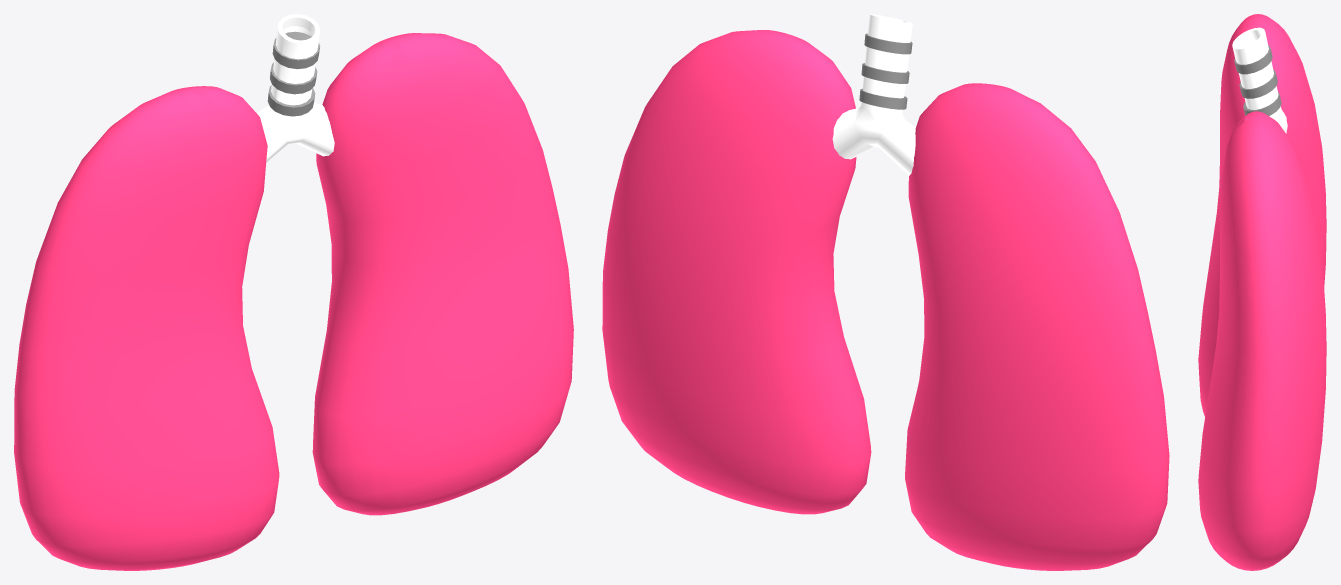
File: lungs.gltf
3 views of the same model, side by side, from view 1: azimuth 30°, elevation 25°; view 2: azimuth 150°, elevation 25°; view 3: azimuth 270°, elevation 25° (orthographic). The views are drawn at different scales.
Visible parts, largest first — view 1: Sphere.025; view 2: Sphere.025; view 3: Sphere.025.
Part boxes in pixels (x1=…): Sphere.025: x1=14, y1=14, x2=573, y2=570; Sphere.025: x1=602, y1=14, x2=1169, y2=570; Sphere.025: x1=1198, y1=14, x2=1326, y2=570.
Bounding box in the file's own units: 2.32 × 2.05 × 0.5189.
1 material, 1 textured.
